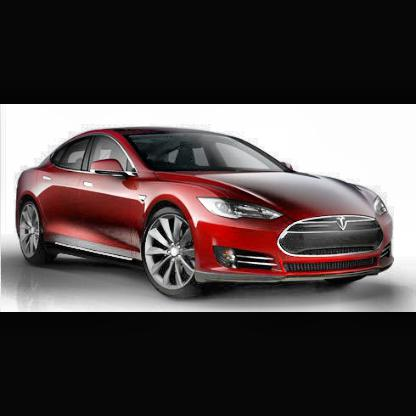Tesla Model S Sedan 2012: (16, 125, 396, 299)
